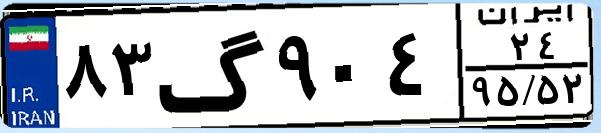0: (330, 28, 385, 110)
2: (560, 70, 590, 125), (508, 27, 537, 80)
3: (110, 28, 156, 98)
4: (385, 28, 445, 110), (537, 27, 568, 80)
5: (495, 70, 520, 125), (535, 70, 560, 125)
8: (57, 26, 110, 100)
9: (270, 28, 330, 110), (470, 70, 495, 125)
گ: (156, 12, 270, 120)
